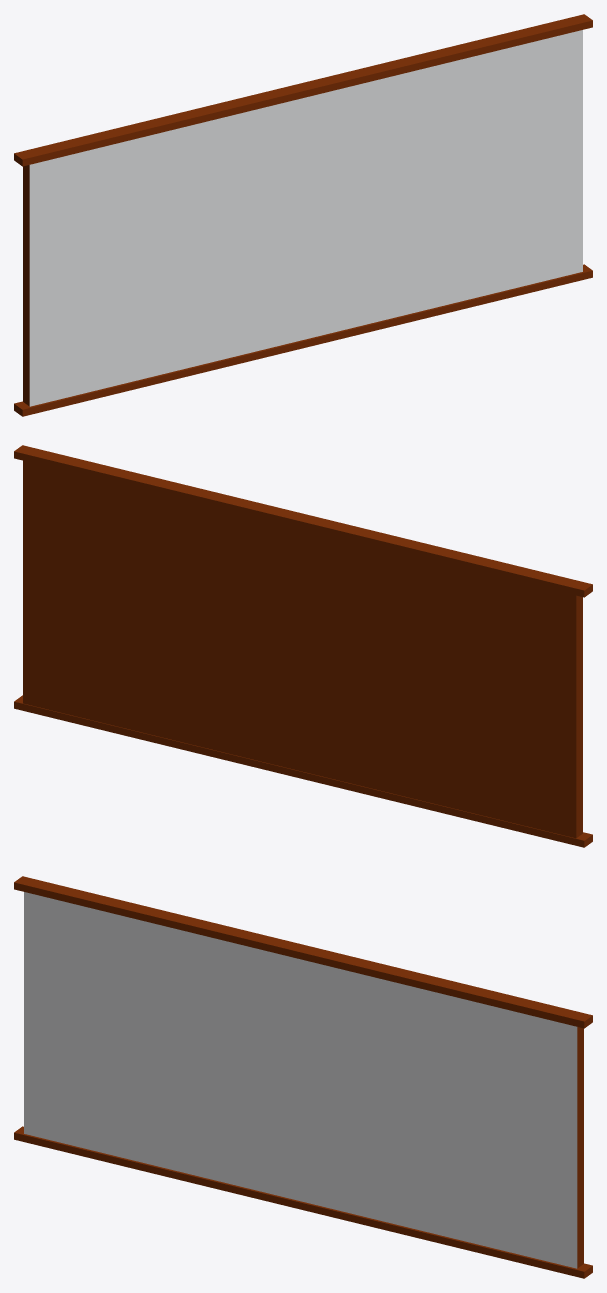
The model's file is Blackboard.fbx.
3 views of the same model, one above another, from view 1: azimuth 30°, elevation 25°; view 2: azimuth 150°, elevation 25°; view 3: azimuth 330°, elevation 25° (orthographic).
Parts seen in each view (by area): view 1: Blackboard; view 2: Blackboard; view 3: Blackboard.
Boxes of the visible parts, bbox=[...] form: Blackboard: bbox=[14, 14, 592, 416]; Blackboard: bbox=[14, 445, 592, 847]; Blackboard: bbox=[14, 876, 592, 1278].
Bounding box in the file's own units: 2.89 × 1.24 × 0.0749.
